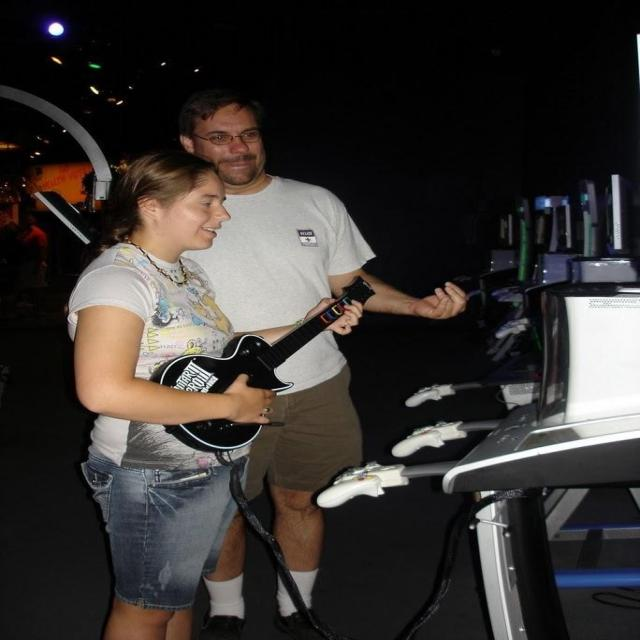guitar: (148, 278, 378, 458)
